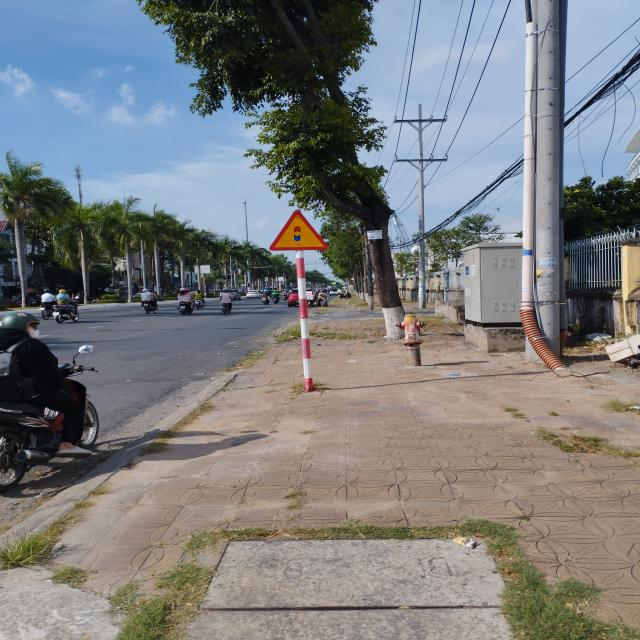Duong_Co_Go_Giam_Toc: (270, 210, 327, 250)
